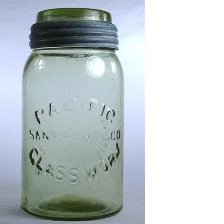bottle: (15, 4, 133, 224)
